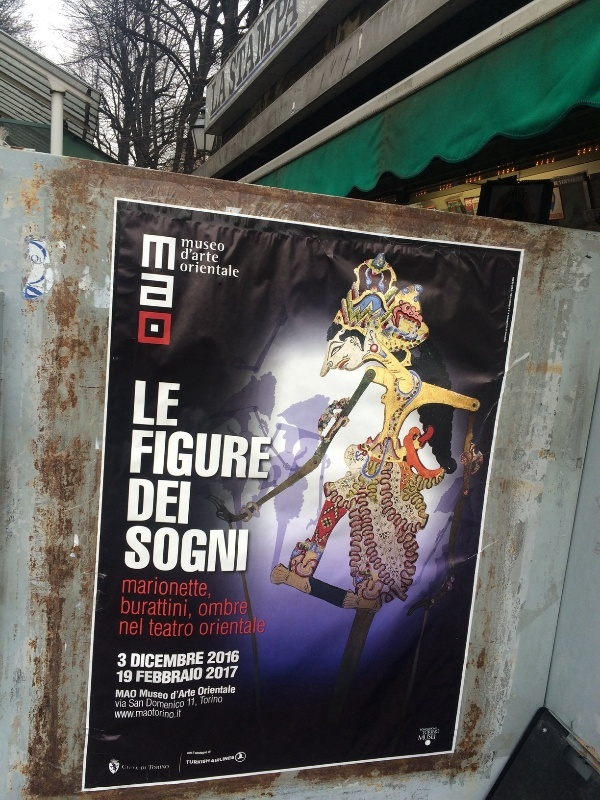text: (161, 231, 177, 347), (145, 231, 160, 347), (241, 1, 256, 102), (257, 1, 272, 102), (273, 1, 288, 102), (289, 1, 304, 102), (230, 1, 240, 102), (305, 1, 315, 102), (145, 427, 160, 480), (161, 427, 176, 480), (177, 427, 192, 480), (193, 427, 208, 480), (209, 427, 224, 480), (225, 427, 240, 480), (241, 427, 256, 480), (257, 427, 272, 480), (129, 524, 144, 576), (145, 524, 160, 576), (161, 524, 176, 576), (177, 524, 192, 576), (193, 524, 208, 576), (209, 524, 224, 576), (225, 524, 240, 576), (145, 378, 160, 428), (161, 378, 176, 428), (129, 477, 144, 527), (145, 477, 160, 527), (161, 477, 176, 527), (177, 477, 192, 527), (132, 427, 144, 480), (212, 68, 224, 119), (135, 378, 144, 428), (241, 524, 249, 576), (129, 595, 144, 622), (145, 595, 160, 622), (161, 595, 176, 622), (177, 595, 192, 622), (129, 576, 144, 601), (145, 576, 160, 601), (161, 576, 176, 601), (177, 576, 192, 601), (193, 576, 208, 601), (209, 594, 224, 619), (225, 594, 240, 619), (209, 614, 224, 638), (225, 614, 240, 638), (241, 614, 256, 638), (161, 616, 176, 639), (177, 616, 192, 639), (193, 260, 208, 281), (209, 260, 224, 281), (225, 260, 240, 281), (145, 665, 160, 686), (161, 665, 176, 686), (177, 665, 192, 686), (129, 616, 143, 638), (145, 650, 160, 670), (161, 650, 176, 670), (177, 650, 192, 670), (193, 247, 208, 265), (257, 614, 268, 638), (131, 650, 144, 670), (149, 616, 160, 639), (193, 650, 205, 670), (209, 650, 224, 666), (225, 650, 240, 666), (209, 665, 224, 681), (181, 260, 192, 281), (193, 238, 208, 253), (209, 238, 224, 253), (199, 594, 208, 619), (241, 594, 250, 619), (225, 665, 239, 681), (193, 665, 203, 686), (177, 688, 192, 702), (177, 378, 181, 428), (181, 247, 192, 265), (145, 688, 160, 701), (161, 698, 176, 711), (193, 754, 208, 767), (209, 754, 224, 767), (200, 614, 208, 638), (146, 698, 160, 711), (209, 247, 219, 265), (120, 616, 128, 638), (118, 652, 128, 669), (136, 665, 144, 686), (209, 685, 224, 696), (129, 708, 144, 719), (145, 708, 160, 719), (161, 708, 176, 719), (122, 595, 128, 622), (117, 670, 128, 684), (114, 699, 128, 710), (209, 694, 223, 705), (114, 708, 128, 719), (182, 238, 192, 253), (116, 689, 128, 701), (419, 732, 432, 743), (129, 699, 144, 708), (148, 763, 160, 774), (225, 754, 235, 767), (123, 576, 128, 601), (225, 685, 236, 696), (193, 749, 208, 757), (143, 231, 144, 347), (129, 763, 140, 773), (465, 200, 480, 207), (126, 524, 128, 576), (161, 688, 169, 701), (177, 698, 185, 711), (199, 685, 208, 696), (161, 763, 170, 774), (129, 689, 137, 701), (420, 726, 432, 734), (200, 694, 208, 705), (186, 754, 192, 767), (209, 576, 212, 601), (122, 763, 128, 773), (129, 670, 133, 684), (172, 688, 176, 702), (187, 698, 192, 709), (193, 698, 198, 709), (140, 688, 144, 701), (225, 68, 226, 119), (186, 749, 192, 757), (177, 708, 181, 719), (193, 688, 196, 702), (433, 732, 436, 743), (206, 665, 208, 681), (433, 726, 437, 734), (209, 749, 212, 757), (193, 616, 194, 639), (141, 765, 144, 772), (225, 238, 226, 253), (145, 765, 147, 772)
